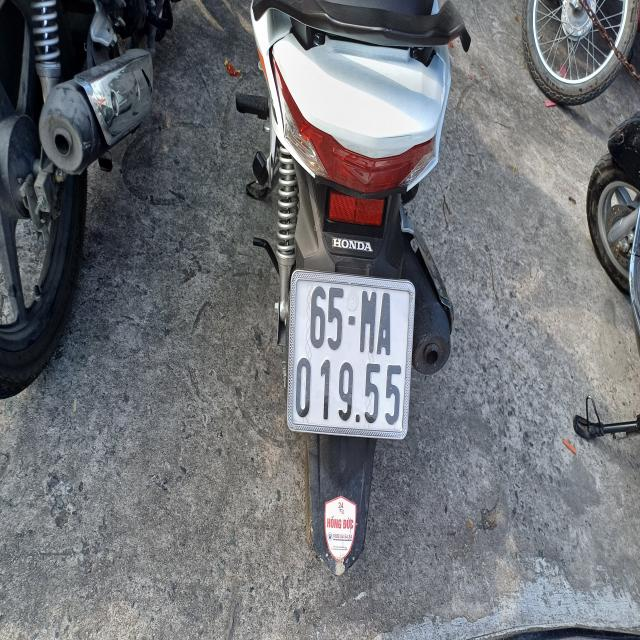0: (293, 354, 311, 422)
1: (318, 353, 331, 426)
5: (382, 367, 406, 424), (327, 286, 344, 353), (363, 360, 380, 427)
6: (308, 285, 326, 353)
9: (338, 362, 354, 423)
A: (378, 290, 394, 364)
M: (358, 290, 378, 352)
